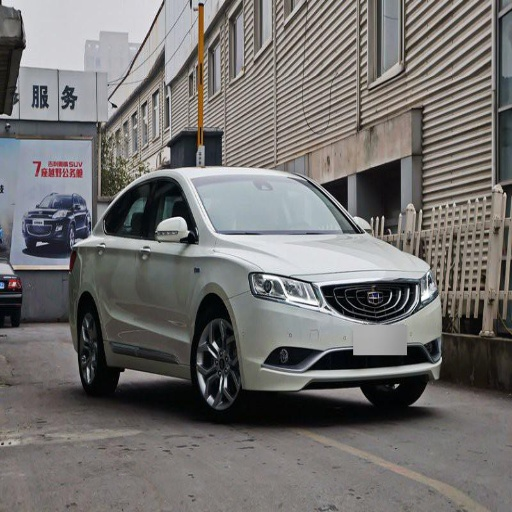front_bumper: (234, 271, 439, 391)
front_right_door: (141, 176, 194, 356)
front_right_light: (249, 272, 322, 307)
